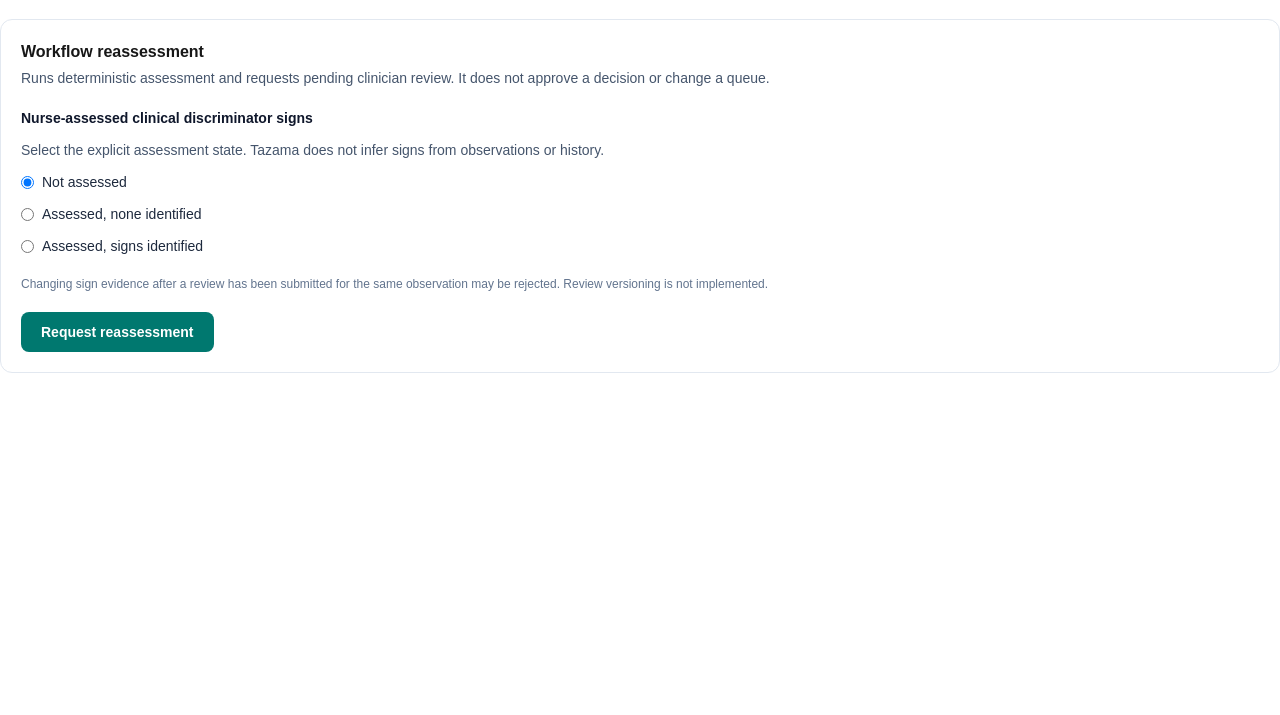
ReassessmentPanel › does not treat HTTP success as confirmed review persistence
Click the button "Request reassessment" at (117, 332), box [21,312,214,352]
(page scrolled)
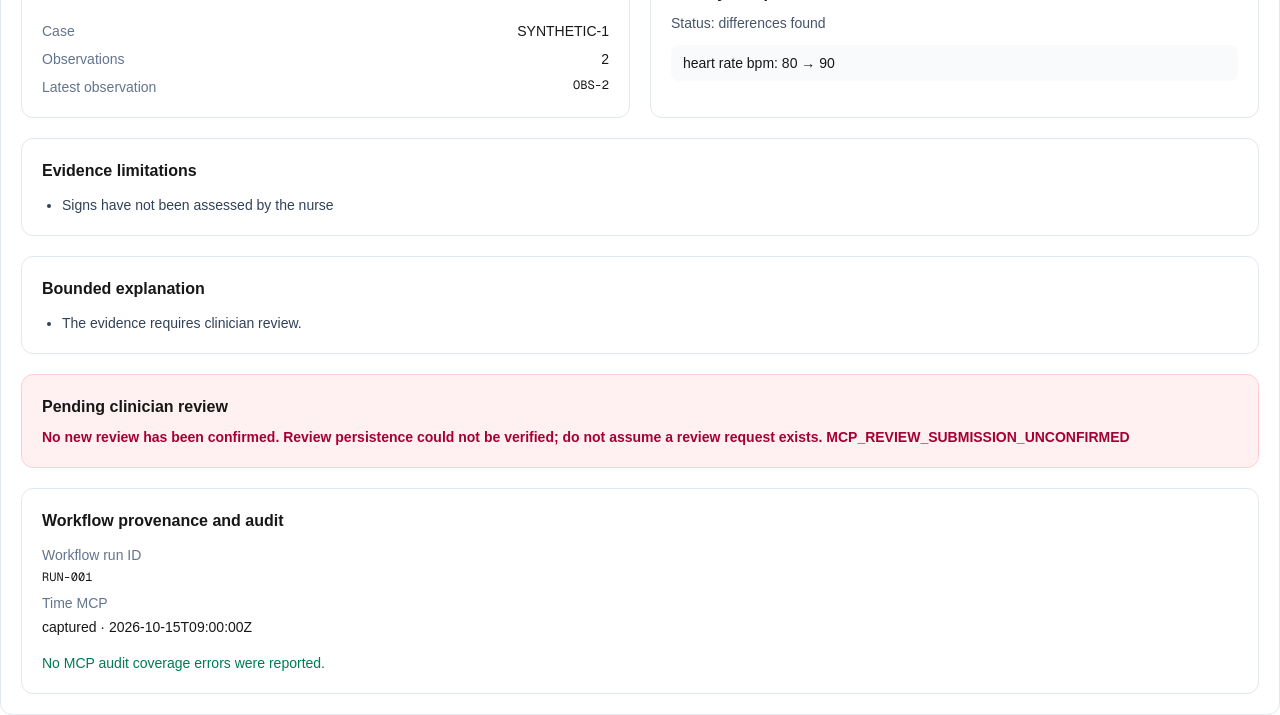
Result: the message shows "No new review has been confirmed" at [42,429,826,445]
